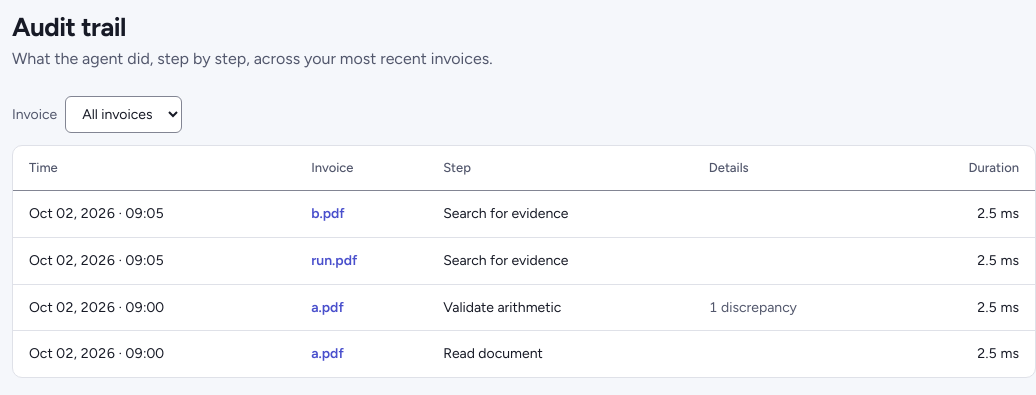
Scenario: AuditView › falls back to all invoices when the selected invoice disappears after a refresh
The width and height of the screenshot is (1036, 395).
Select "b.pdf" in the dropdown labelled "Invoice" at [124, 114], box 65,96 -> 182,133
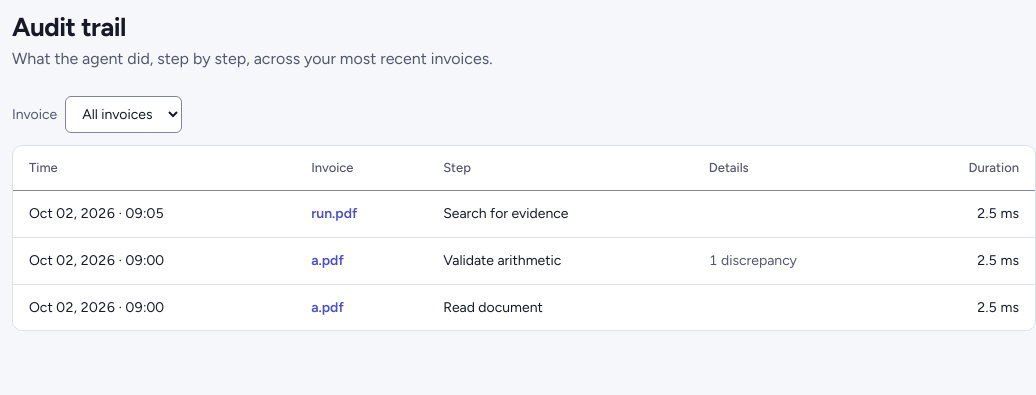
Expected: the link "b.pdf" is gone
